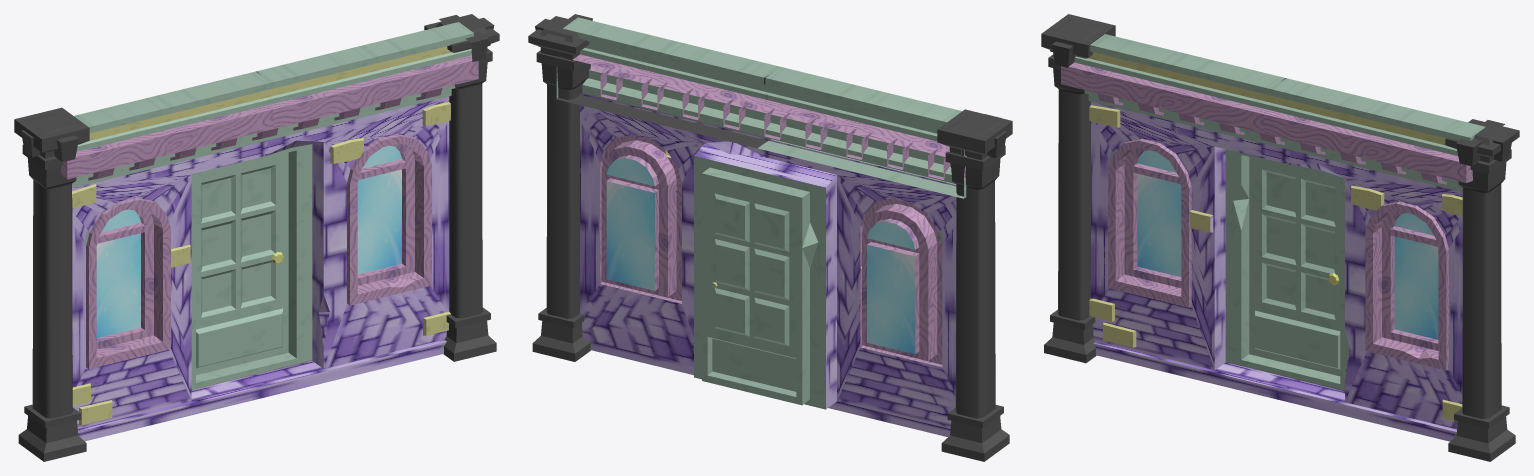
File: House_Door_05_2Pillars.fbx
3 renders of one model, left to right at view 1: azimuth 30°, elevation 25°; view 2: azimuth 150°, elevation 25°; view 3: azimuth 330°, elevation 25°, orthographic.
Visible parts, largest first — view 1: SM_Bld_Apartment_Door_02; view 2: SM_Bld_Apartment_Door_02; view 3: SM_Bld_Apartment_Door_02.
Part boxes in pixels (box(x1,y1,x2,y2)): SM_Bld_Apartment_Door_02: box(14, 14, 499, 461); SM_Bld_Apartment_Door_02: box(528, 14, 1012, 461); SM_Bld_Apartment_Door_02: box(1041, 14, 1519, 461).
Bounding box in the file's own units: 565 × 377 × 80.95.
